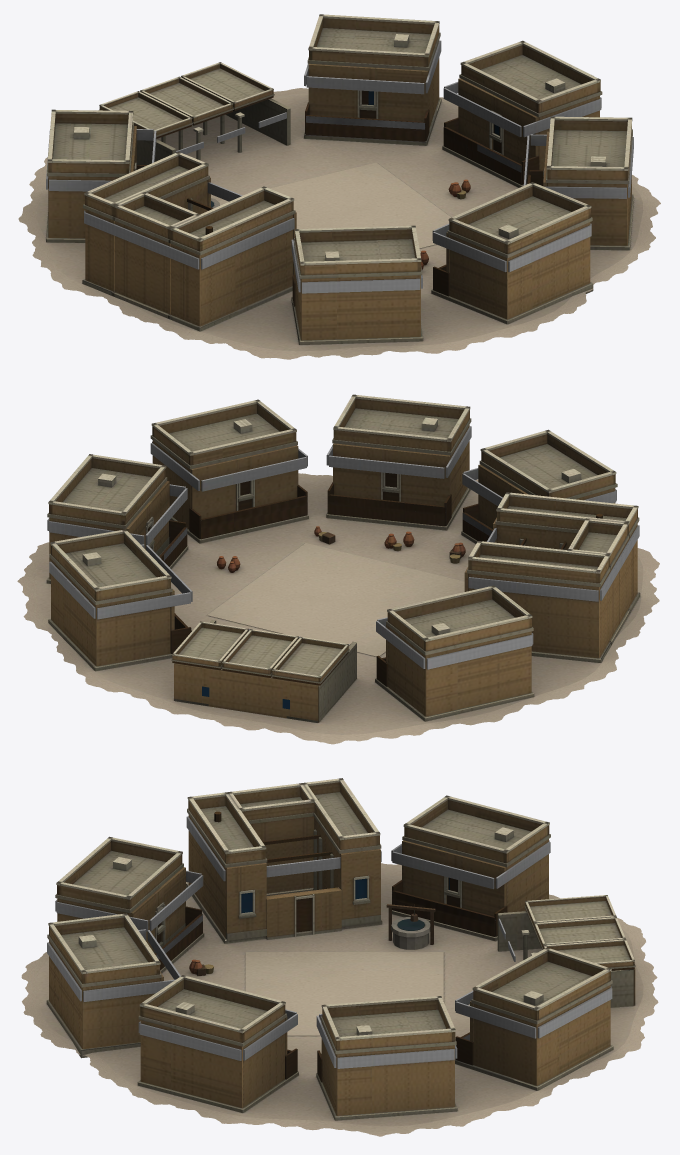
The model's file is bronze-town-small-b-israelite.glb.
3 views of the same model, one above another, from view 1: azimuth 30°, elevation 25°; view 2: azimuth 150°, elevation 25°; view 3: azimuth 270°, elevation 25° (orthographic).
Parts seen in each view (by area): view 1: LOD0; view 2: LOD0; view 3: LOD0.
Part boxes in pixels (left/top/right/bottom): LOD0: left=18, top=14, right=660, bottom=359; LOD0: left=17, top=394, right=659, bottom=744; LOD0: left=21, top=778, right=658, bottom=1136.
Size of what is drawn, in the model's own units: 4.01 by 0.6358 by 3.95.
Materials: 3 (3 with a texture image).
